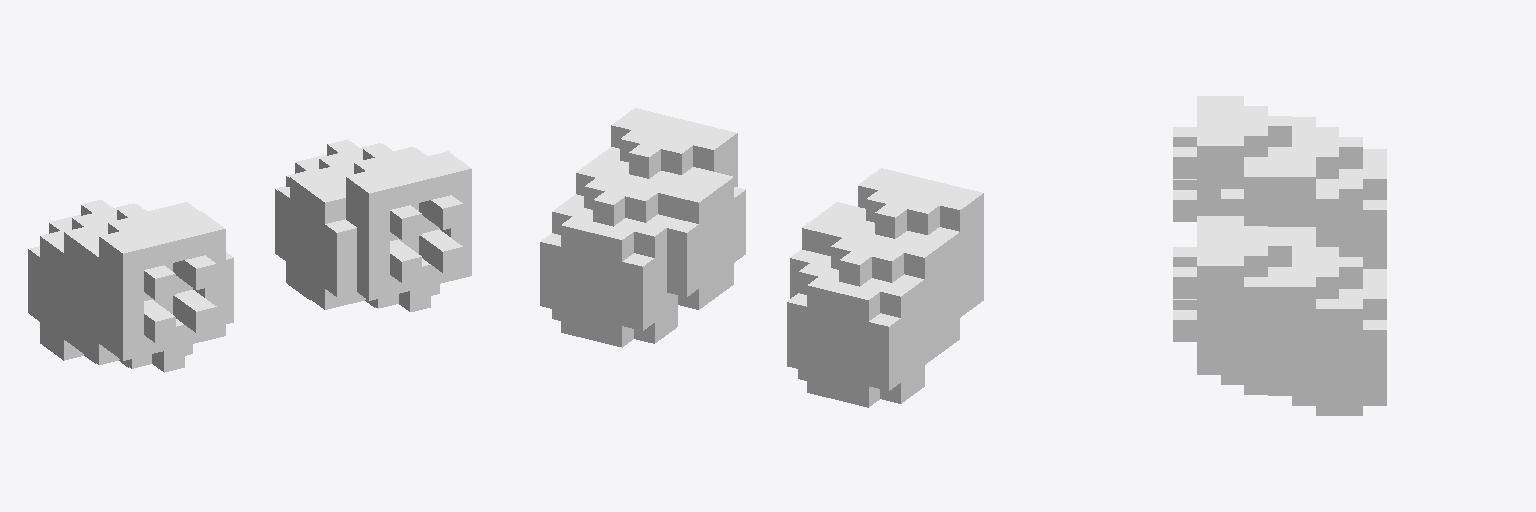
The model's file is WeaponArtillery.obj.
3 renders of one model, left to right at view 1: azimuth 30°, elevation 25°; view 2: azimuth 150°, elevation 25°; view 3: azimuth 270°, elevation 25°, orthographic.
Parts seen in each view (by area): view 1: object 1; view 2: object 1; view 3: object 1.
Boxes of the visible parts, x1,y1,x2,y2 form: object 1: [28, 139, 471, 372]; object 1: [540, 108, 983, 407]; object 1: [1173, 96, 1386, 415].
Size of the model in its own units: 1.7 by 0.7 by 0.9.